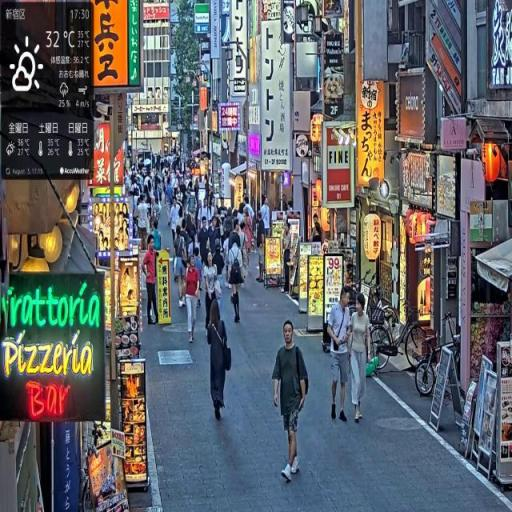person: (272, 320, 311, 485), (329, 287, 356, 425), (207, 297, 233, 423), (348, 293, 372, 424), (183, 251, 202, 344), (227, 237, 246, 325), (144, 236, 161, 328), (203, 251, 222, 332)
